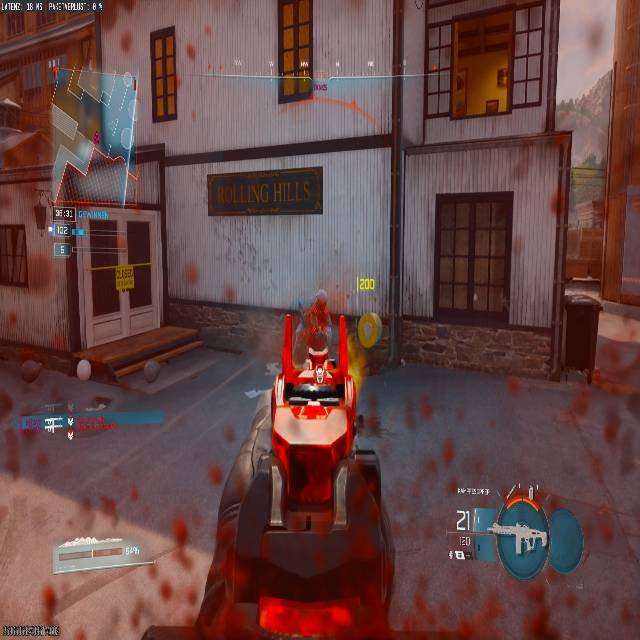head: (313, 289, 328, 311)
